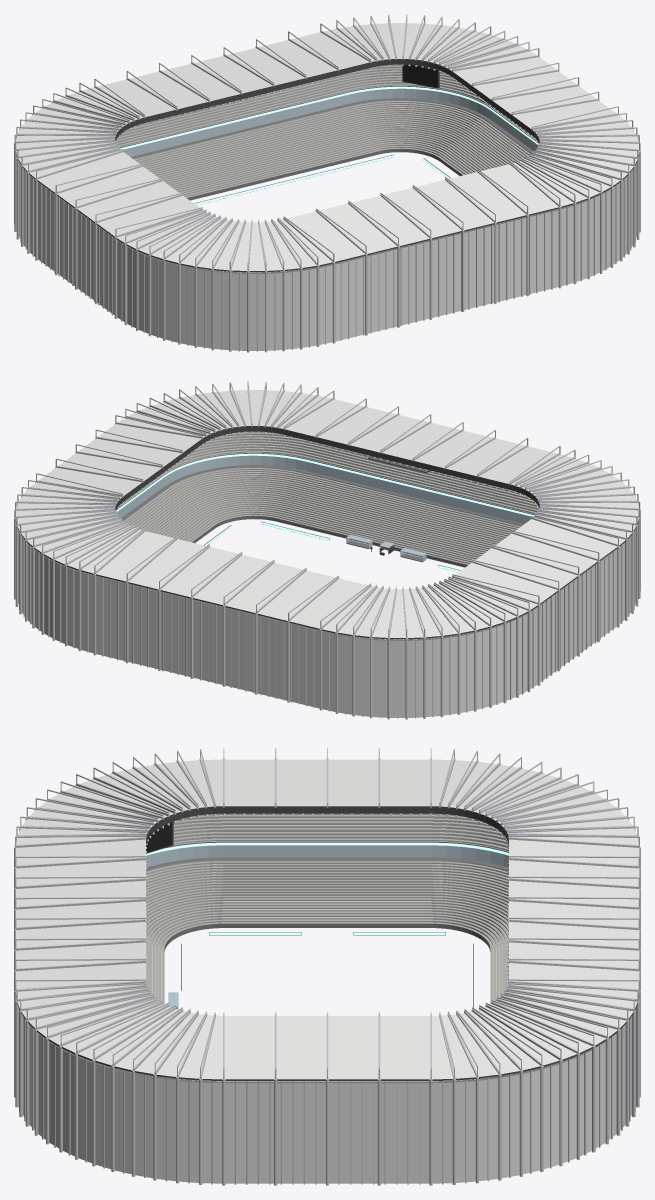
File: SM_Stadium.fbx
3 views of the same model, one above another, from view 1: azimuth 30°, elevation 25°; view 2: azimuth 150°, elevation 25°; view 3: azimuth 270°, elevation 25° (orthographic). The views are drawn at different scales.
Visible parts, largest first — view 1: SM_Stadium; view 2: SM_Stadium; view 3: SM_Stadium.
Boxes of the visible parts, x1,y1,x2,y2 form: SM_Stadium: (14, 14, 640, 352); SM_Stadium: (14, 381, 640, 719); SM_Stadium: (14, 748, 640, 1185).
Size of the model in its own units: 205 by 35.01 by 169.
